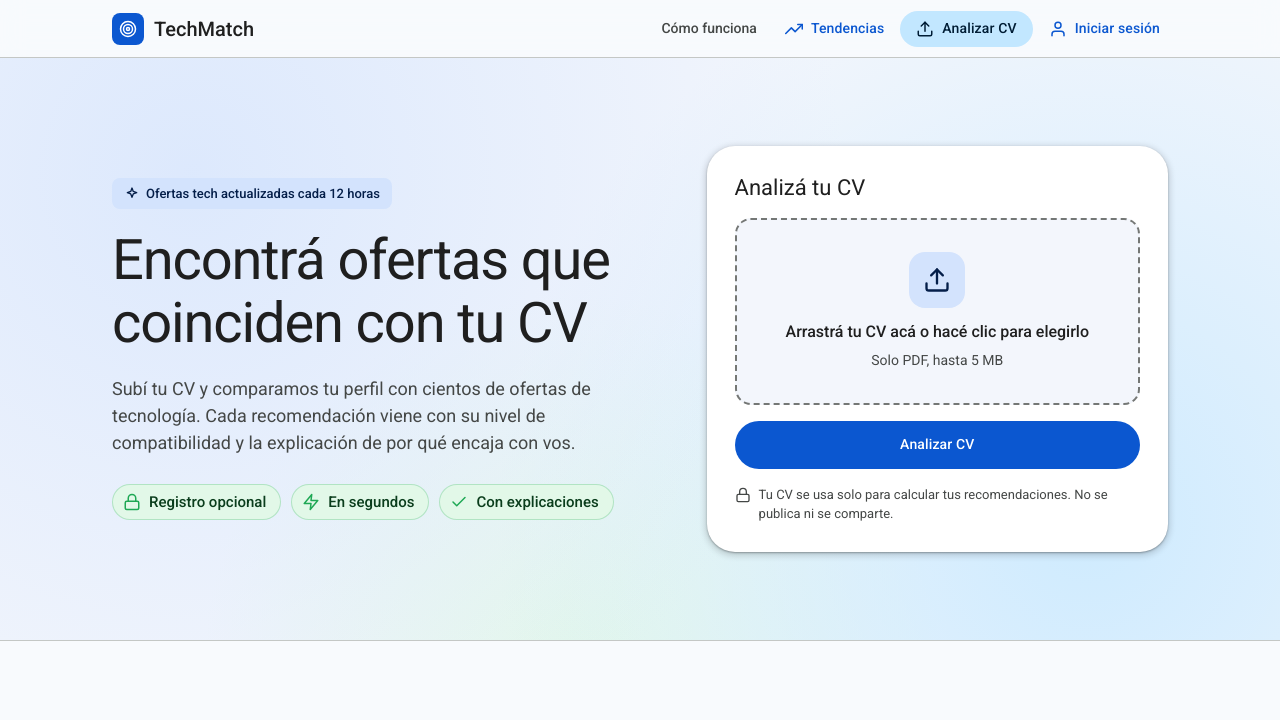
trends dashboard › is linked from the top bar
Click the link with aria-label "Tendencias del mercado" at (835, 28), box x1=777 y1=10 x2=892 y2=46
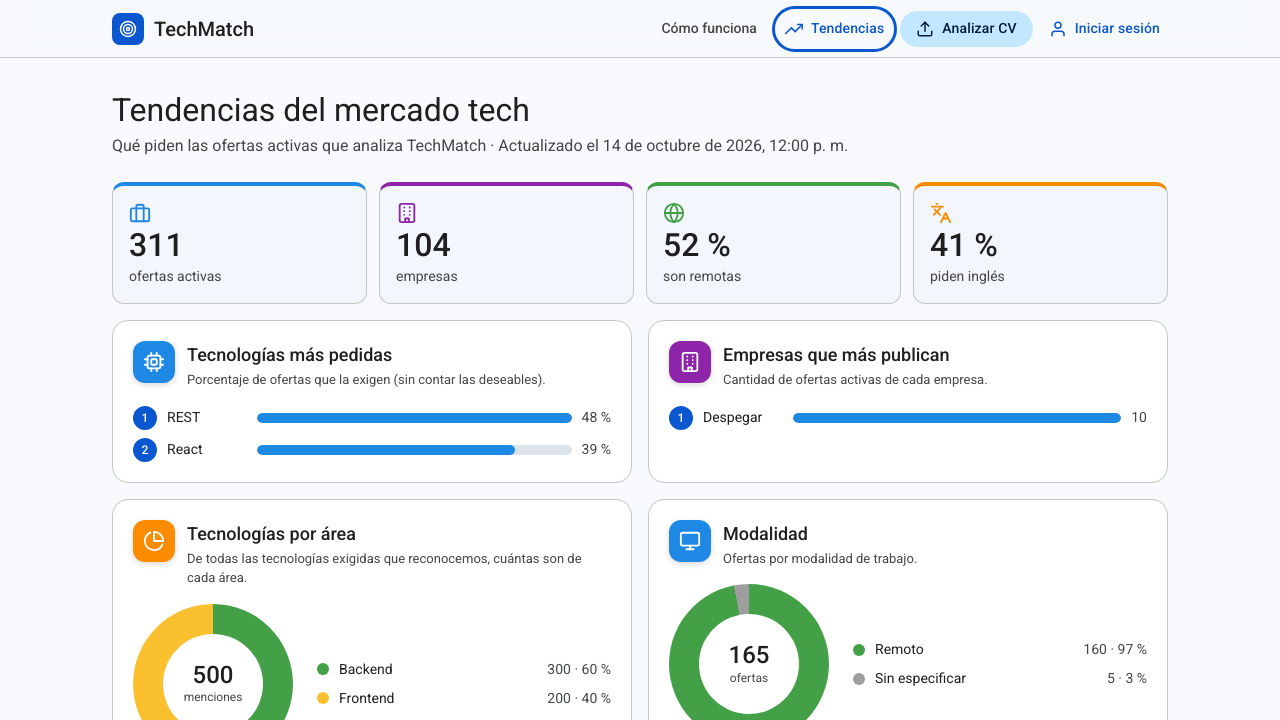
Expected: the heading "Tendencias del mercado tech" is shown, x1=112 y1=91 x2=530 y2=129
